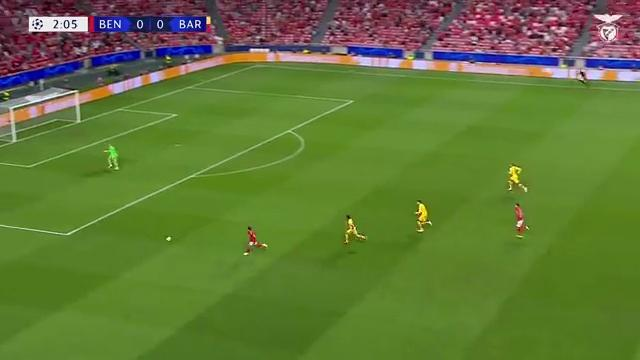football: (165, 234, 173, 243)
player: (243, 226, 267, 255), (344, 215, 366, 243), (508, 163, 527, 191), (415, 200, 431, 232), (515, 203, 528, 237), (104, 144, 118, 169)
referee: (576, 69, 589, 86)
